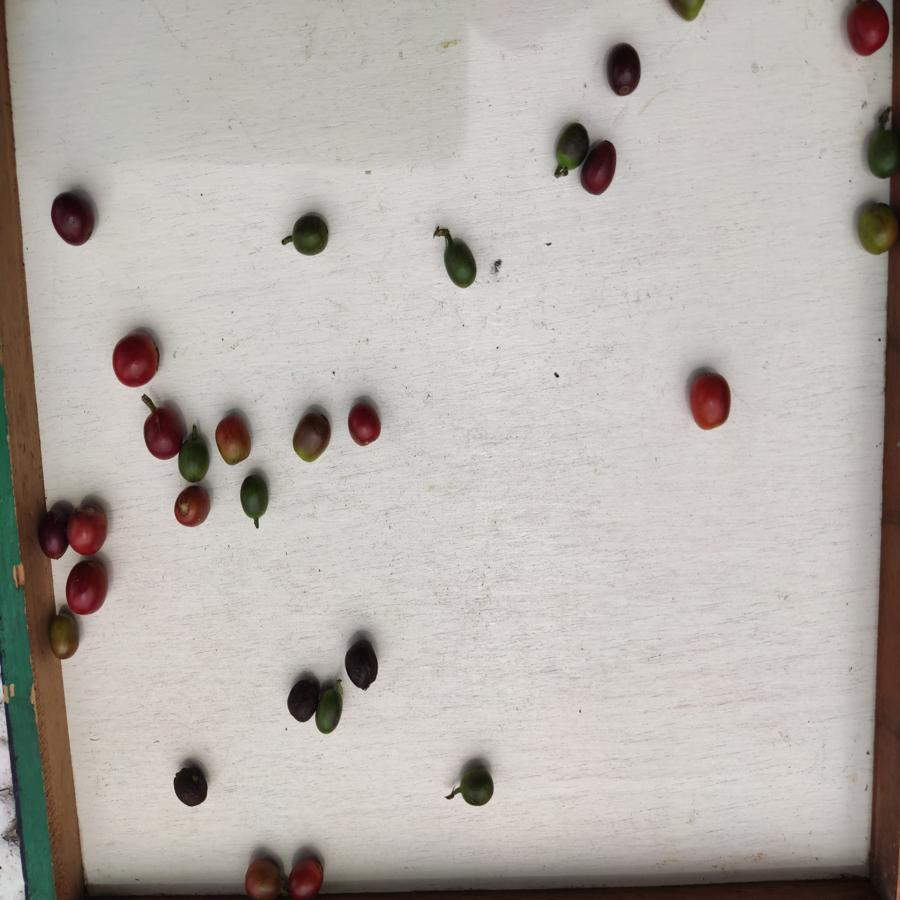Inmaduro: (439, 237, 479, 290), (290, 214, 331, 257), (867, 127, 899, 179), (178, 438, 212, 484), (458, 769, 495, 808), (555, 122, 584, 171), (239, 474, 270, 518), (317, 688, 343, 736)
Maduro: (110, 334, 161, 389), (845, 1, 891, 57), (689, 372, 731, 431), (66, 560, 109, 616), (67, 504, 109, 557), (142, 407, 178, 460), (345, 401, 383, 448), (287, 858, 323, 900), (175, 486, 210, 528)
Pinton: (857, 199, 898, 257), (215, 411, 253, 465), (292, 413, 331, 463), (241, 855, 284, 900), (48, 608, 83, 662)
Sobremaduro: (49, 190, 97, 245), (605, 41, 643, 97), (583, 139, 618, 199), (345, 640, 381, 692), (171, 764, 208, 809), (286, 676, 319, 724), (38, 508, 68, 560)
